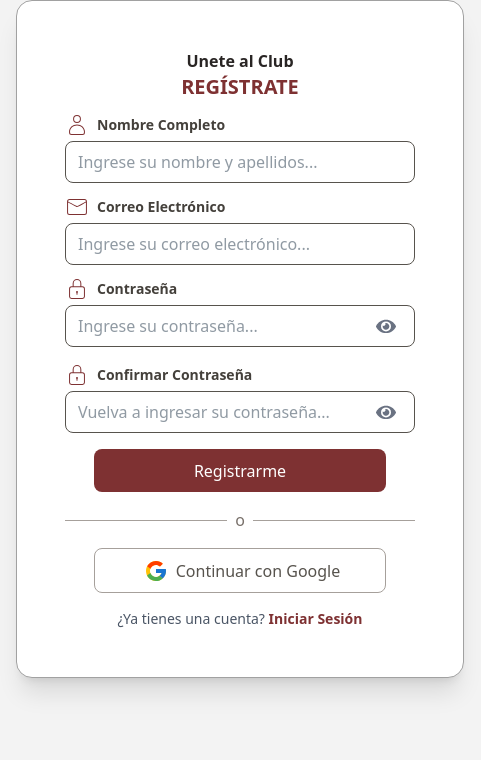
Registro › muestra error cuando las contraseñas no coinciden
The width and height of the screenshot is (481, 760).
// Llenar el formulario
Type "Juan Pérez" into the field with placeholder "Ingrese su nombre y apellidos..." at (240, 162), box [65, 141, 415, 183]
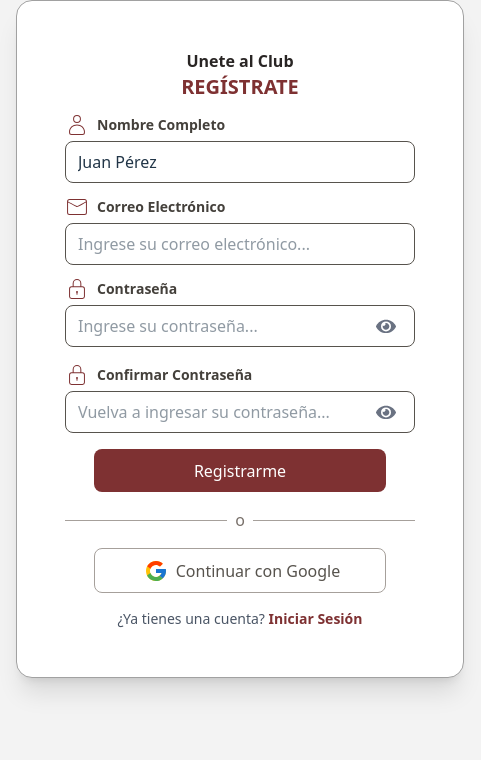
Type "juan@example.com" into the field with placeholder "Ingrese su correo electrónico..." at (240, 244), box [65, 223, 415, 265]
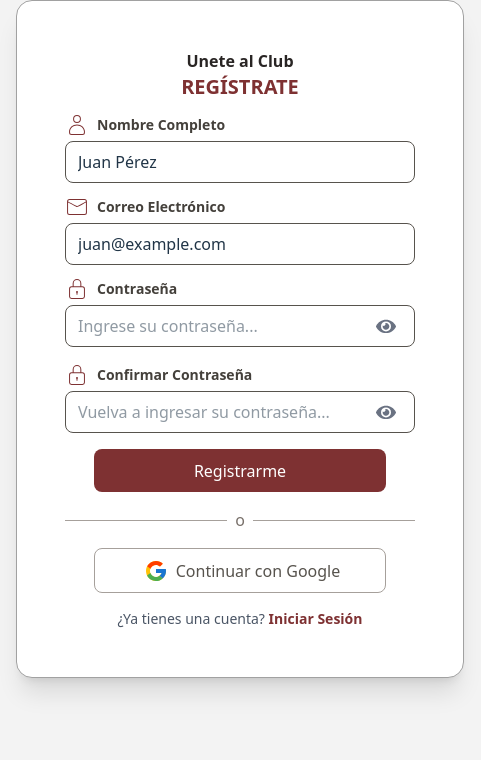
Type "password123" into the password field with placeholder "Ingrese su contraseña..." at (240, 326), box [65, 305, 415, 347]
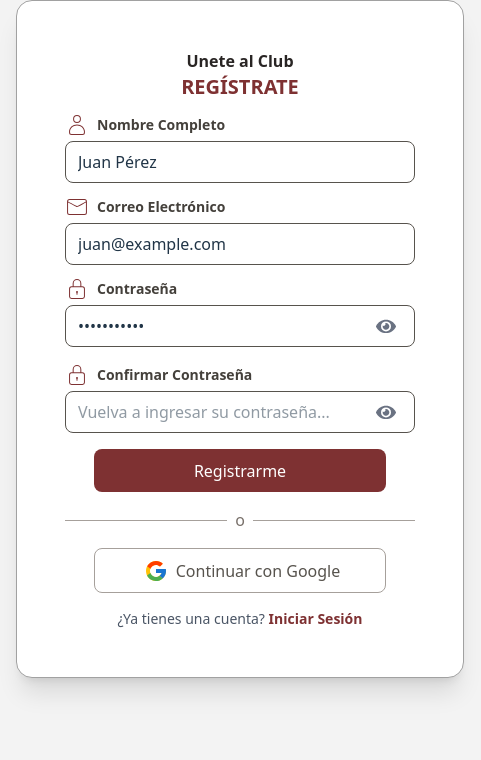
Type "password456" into the password field with placeholder "Vuelva a ingresar su contraseña..." at (240, 412), box [65, 391, 415, 433]
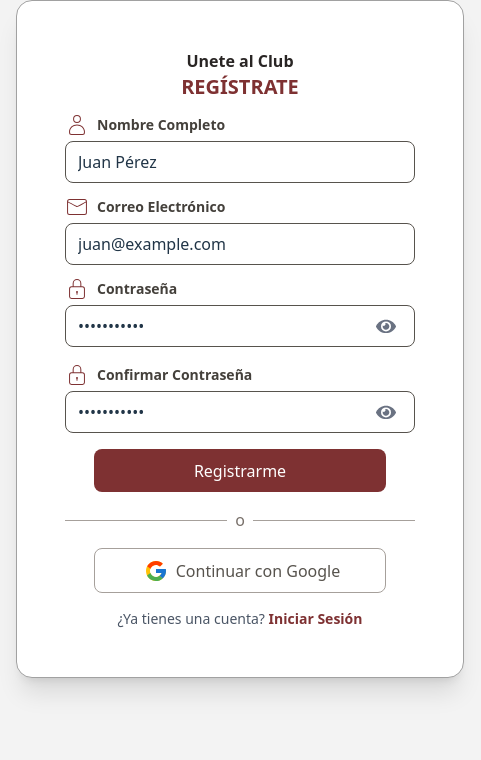
// Enviar formulario (click al botón)
Click the button "Registrarme" at (240, 471), box [94, 449, 386, 492]
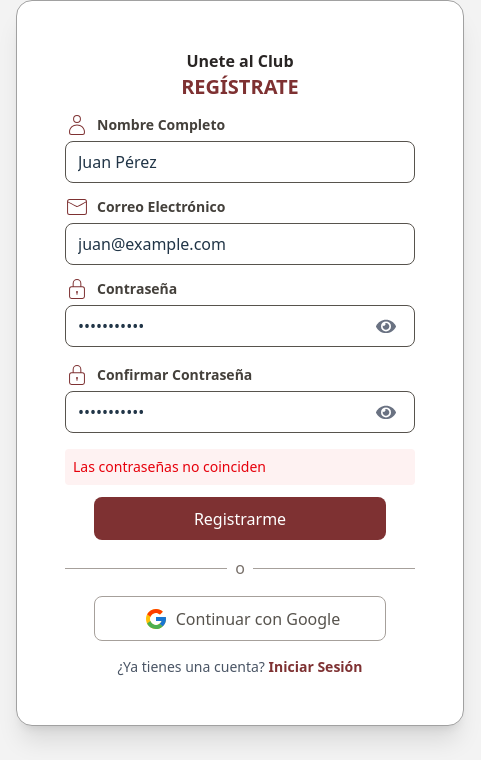
Result: the text "Las contraseñas no coinciden" is shown at [65, 449, 415, 485]
